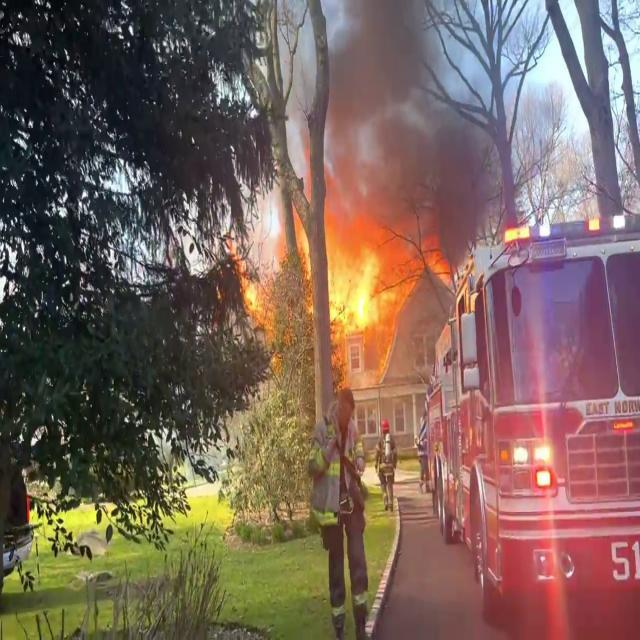Fire: (324, 177, 408, 360)
Smoke: (316, 0, 516, 233)
